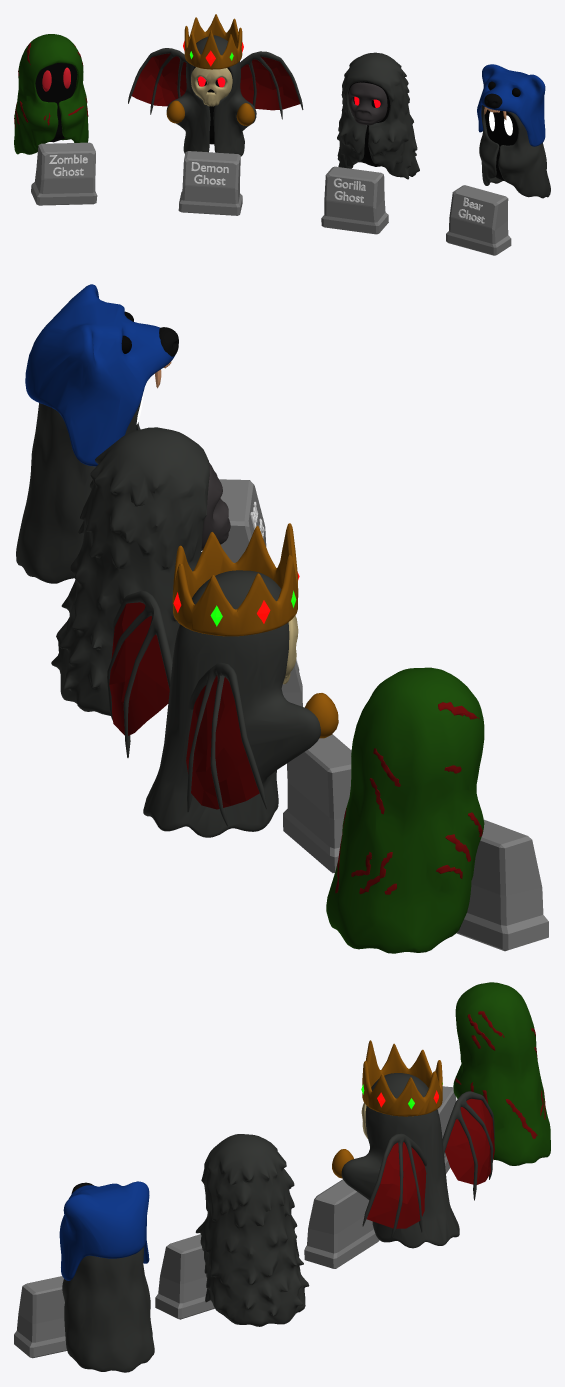
Rendered from Ghosts.glb.
3 renders of one model, top to bottom at view 1: azimuth 30°, elevation 25°; view 2: azimuth 150°, elevation 25°; view 3: azimuth 270°, elevation 25°, orthographic. The views are drawn at different scales.
Parts seen in each view (by area): view 1: DG, GG, BG, ZG.001; view 2: DG, ZG.001, BG, GG; view 3: DG, GG, BG, ZG.001.
Boxes of the visible parts, <box> form: DG: <box>128,14,303,215</box>; GG: <box>321,52,419,234</box>; BG: <box>446,64,550,255</box>; ZG.001: <box>14,34,97,205</box>; DG: <box>107,523,351,873</box>; ZG.001: <box>326,667,548,953</box>; BG: <box>16,284,266,583</box>; GG: <box>51,427,302,715</box>; DG: <box>304,1040,494,1268</box>; GG: <box>155,1134,309,1326</box>; BG: <box>14,1181,154,1372</box>; ZG.001: <box>437,982,550,1173</box>.
Bounding box in the file's own units: 11.46 × 4.79 × 10.65.
